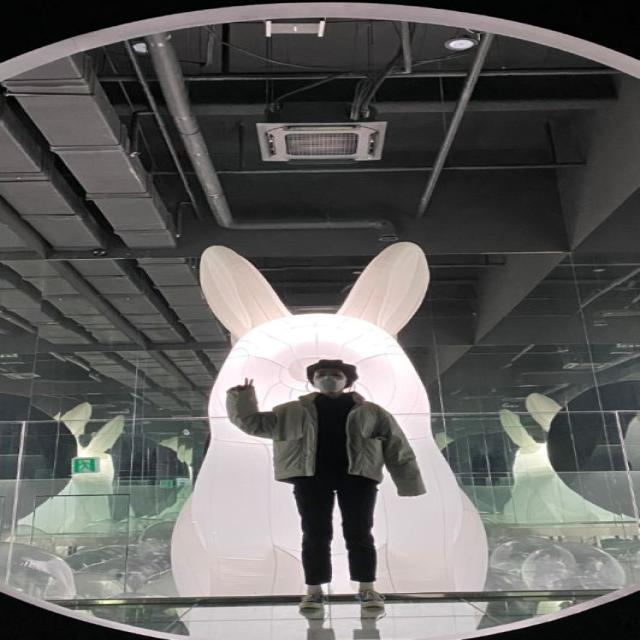denimpants: (294, 471, 378, 583)
padding: (227, 380, 427, 495)
